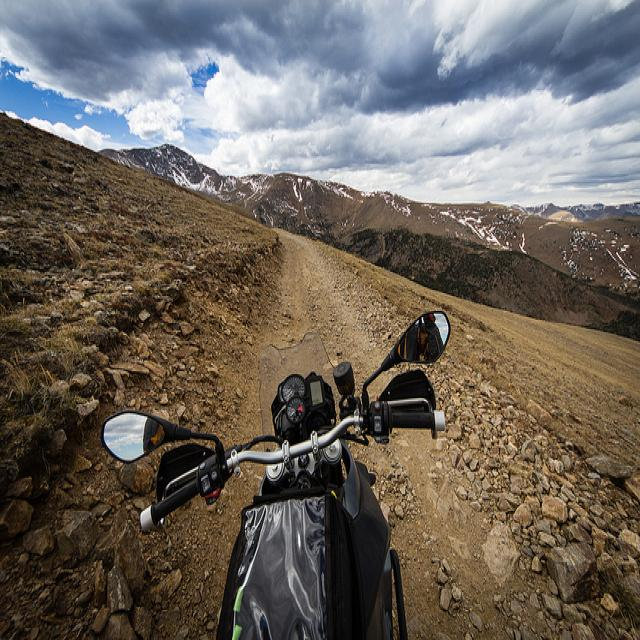motor: (101, 309, 452, 640)
